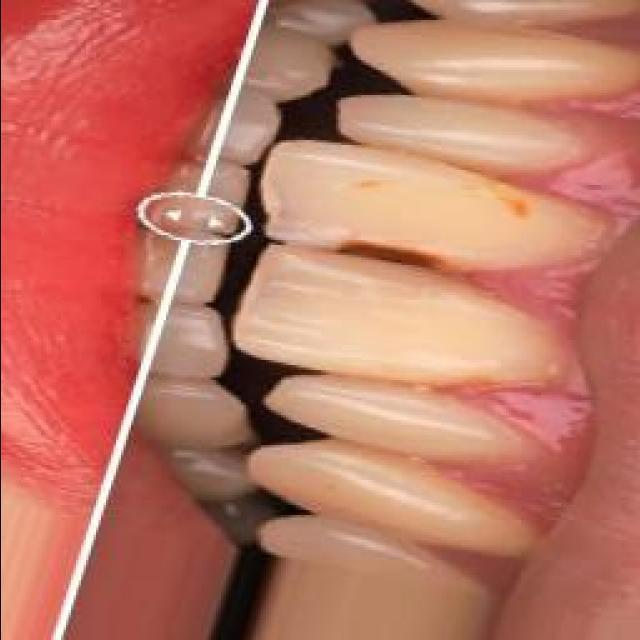decay: (323, 243, 443, 265)
